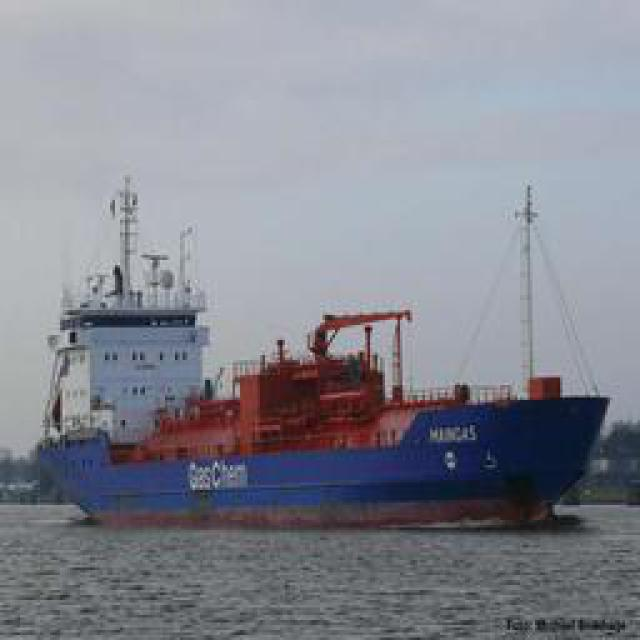Ship: (31, 172, 619, 529)
